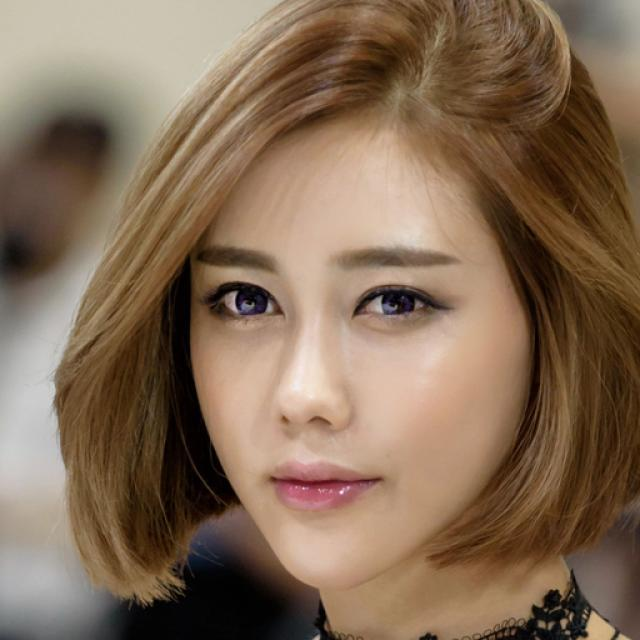neutral: (188, 90, 534, 593)
